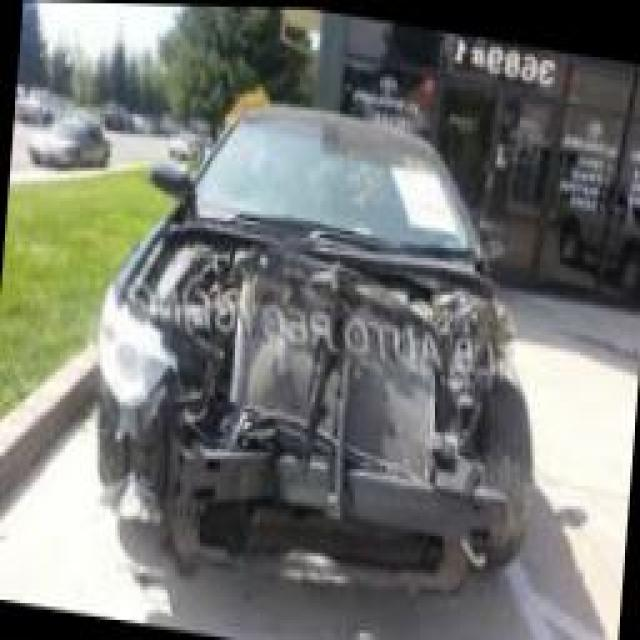Bonnet: (117, 202, 511, 472)
Bumper: (114, 436, 489, 595)
Light: (440, 384, 489, 465)
